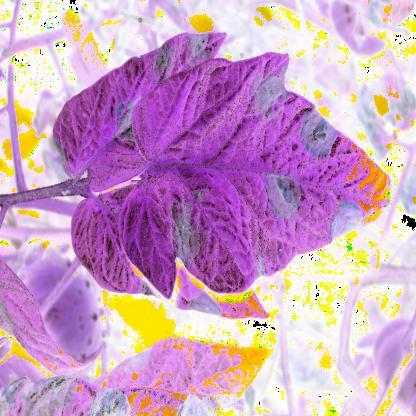Potato leaf: (122, 50, 393, 298), (50, 31, 294, 300)
